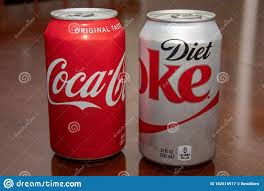can: (135, 6, 225, 167), (41, 6, 128, 165)
